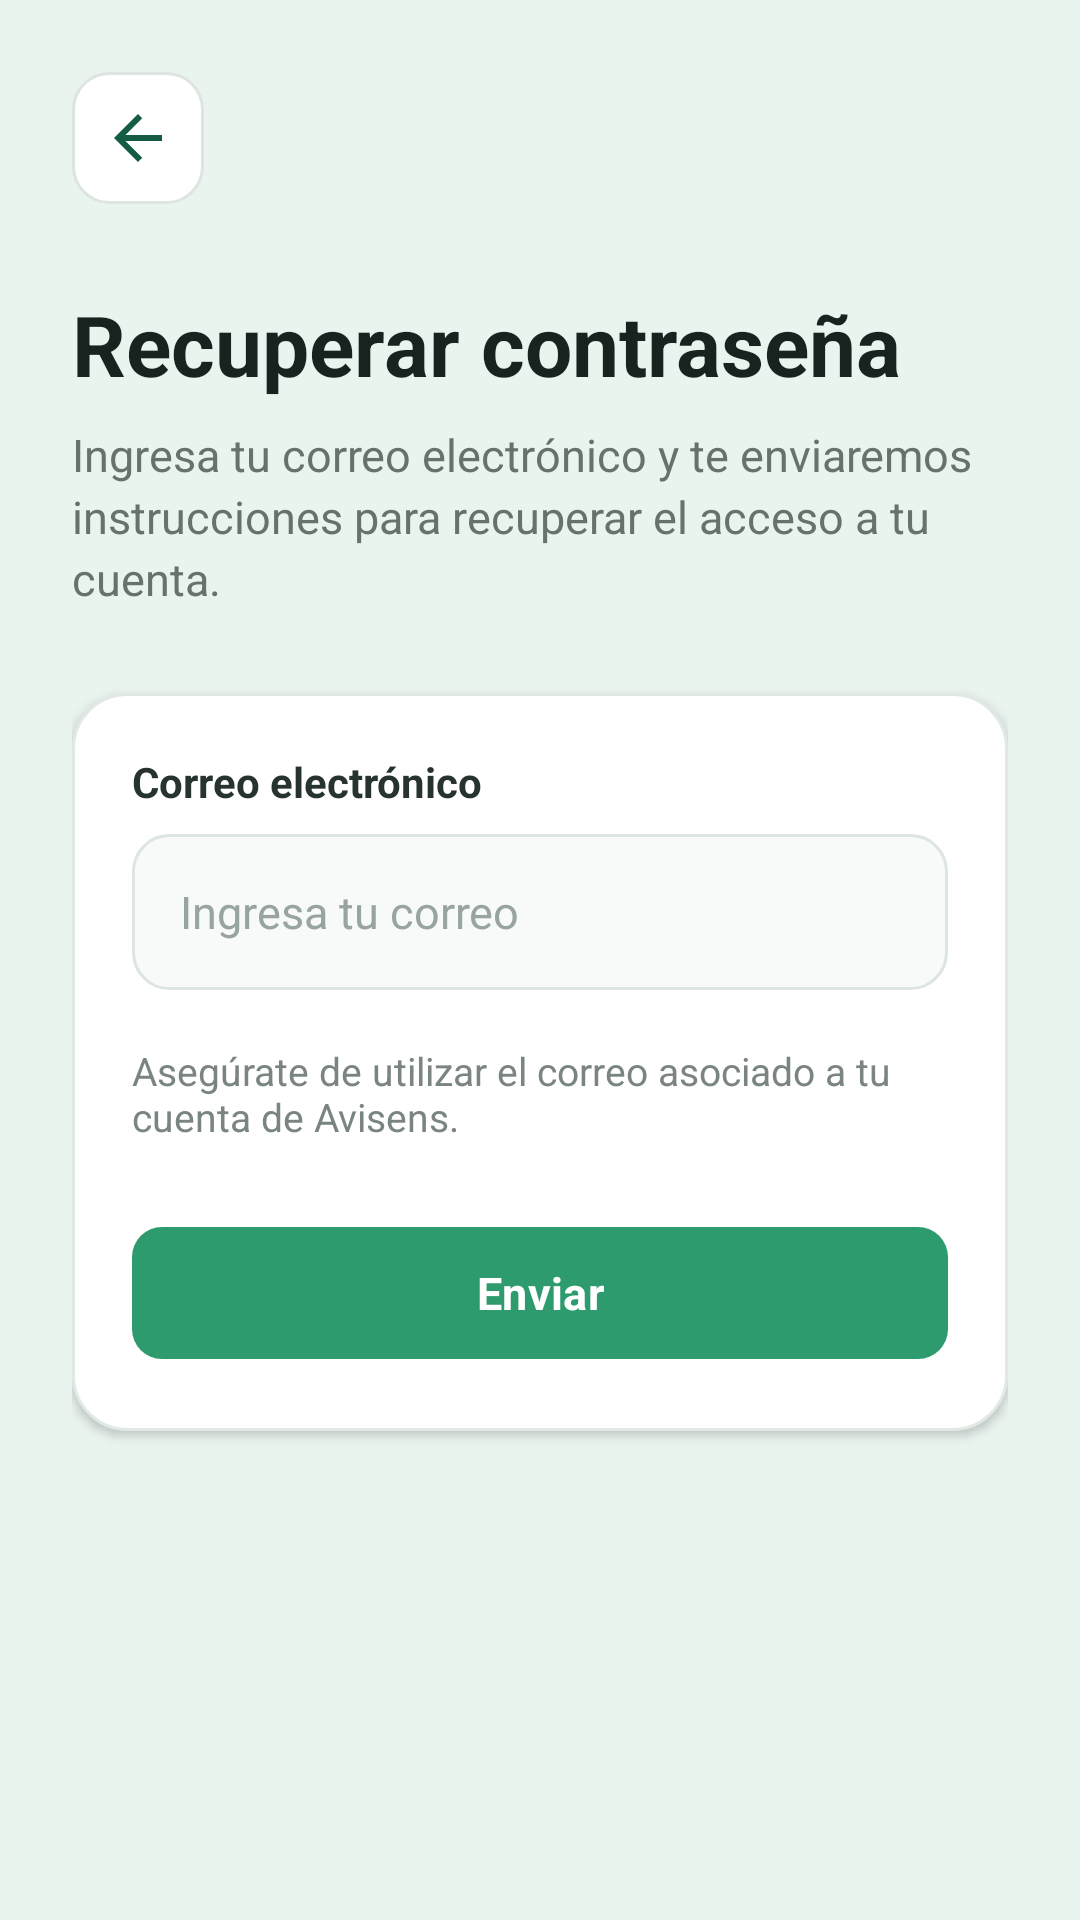

Where icons sit on this 1080*1920 app screen, as (x1, y1, x2, y2):
Volver: (72, 72, 204, 204)
